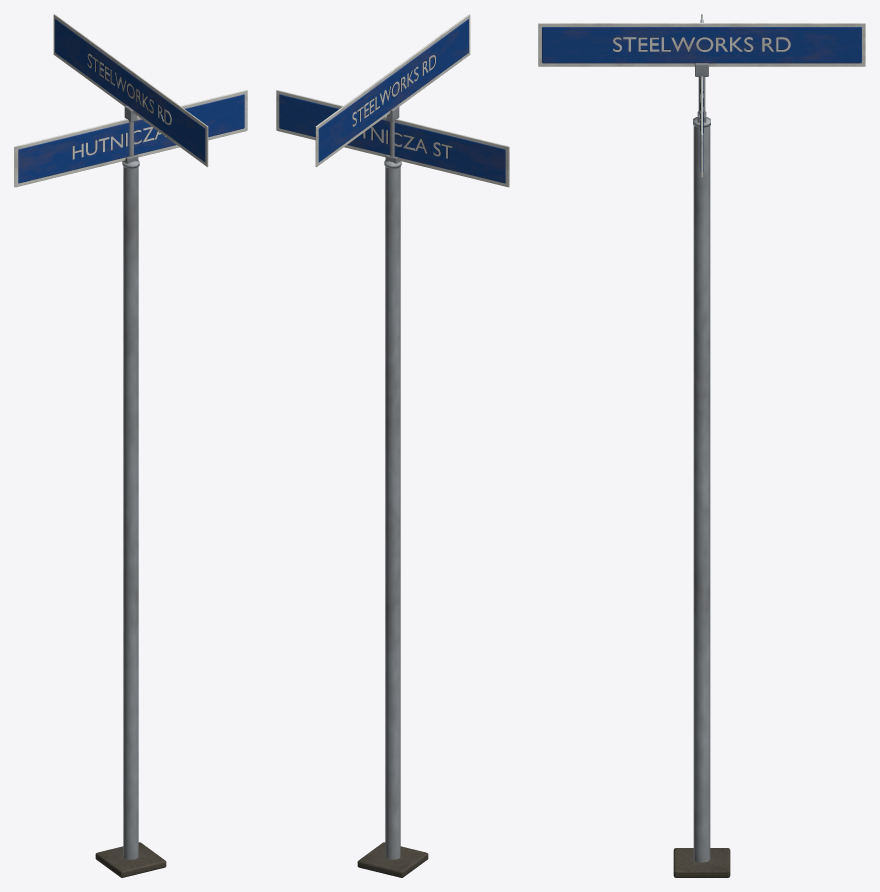
Rendered from znak_ulica_c.glb.
3 views of the same model, side by side, from view 1: azimuth 30°, elevation 25°; view 2: azimuth 150°, elevation 25°; view 3: azimuth 270°, elevation 25° (orthographic). The views are drawn at different scales.
Visible parts, largest first — view 1: Tarcza, Slupek; view 2: Tarcza, Slupek; view 3: Slupek, Tarcza.
Boxes of the visible parts, x1,y1,x2,y2 form: Tarcza: (14, 14, 247, 187); Slupek: (95, 105, 166, 877); Tarcza: (276, 14, 509, 187); Slupek: (357, 105, 428, 877); Slupek: (673, 63, 730, 877); Tarcza: (538, 14, 865, 177).
Bounding box in the file's own units: 1.01 × 3.3 × 1.16.
2 materials, 2 textured.
